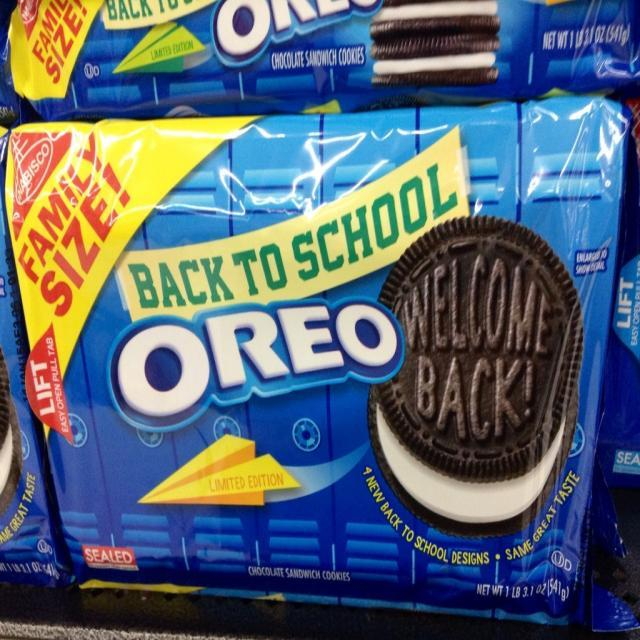Cookie: (366, 208, 586, 541), (368, 0, 502, 86), (0, 350, 27, 518)
